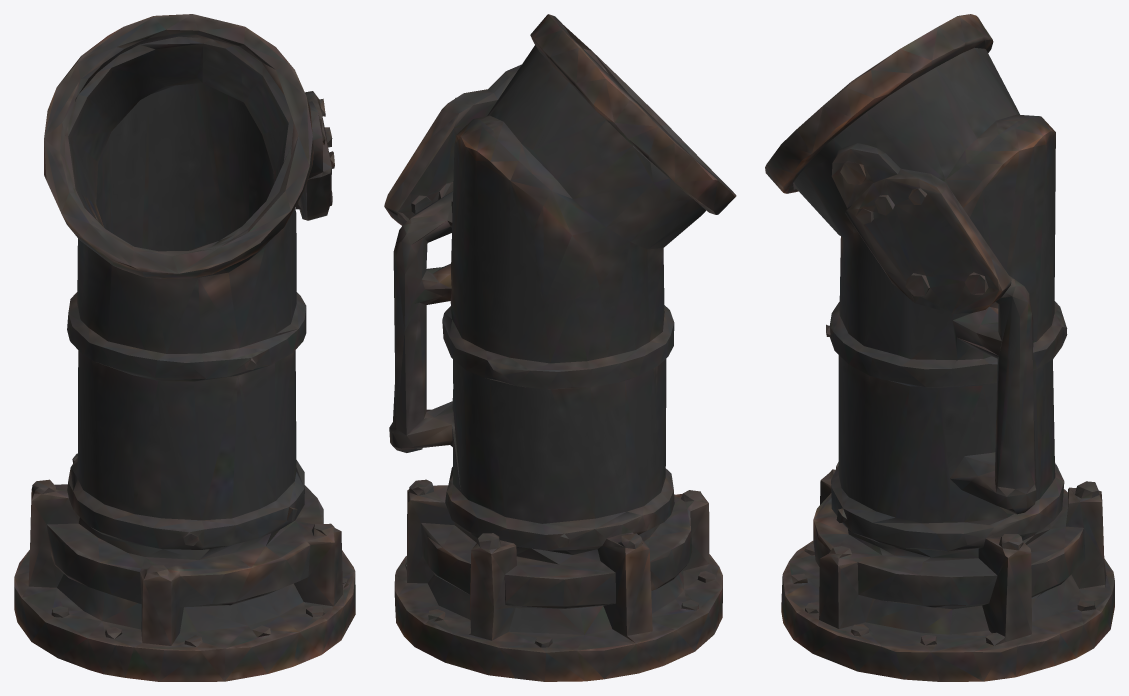
Rendered from steam_vent_nozzle.glb.
3 views of the same model, side by side, from view 1: azimuth 30°, elevation 25°; view 2: azimuth 150°, elevation 25°; view 3: azimuth 270°, elevation 25° (orthographic). The views are drawn at different scales.
Parts seen in each view (by area): view 1: main; view 2: main; view 3: main.
Part boxes in pixels (x1=…): main: x1=14, y1=14, x2=355, y2=681; main: x1=384, y1=14, x2=736, y2=681; main: x1=765, y1=14, x2=1114, y2=681.
Bounding box in the file's own units: 0.2407 × 0.4502 × 0.2432.
Materials: 1 (1 with a texture image).
